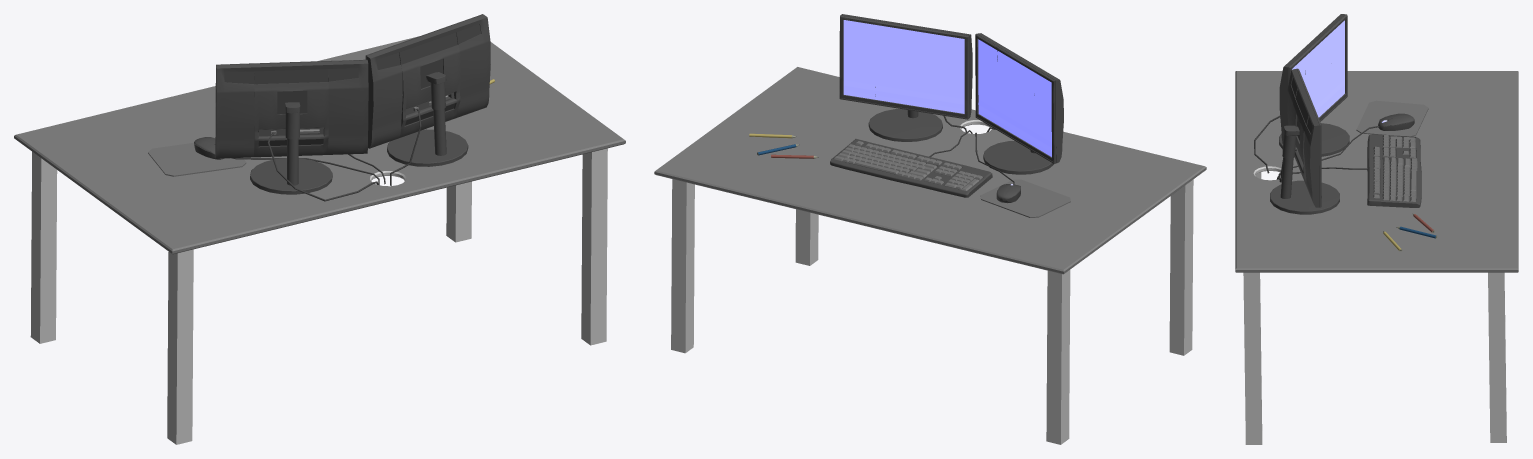
The model's file is office_desk.glb.
The picture shows the model from 3 angles, left to right: view 1: azimuth 30°, elevation 25°; view 2: azimuth 150°, elevation 25°; view 3: azimuth 270°, elevation 25°; orthographic projection. The views are drawn at different scales.
Visible parts, largest first — view 1: Desk2, Monitor_2, Monitor_1, pCube6, pCube5, pCube4, Mouse_pad, pCube3; view 2: Desk2, Monitor_1, Monitor_2, Keyboard115, pCube4, pCube3, pCube5, Mouse_pad, pCube6; view 3: Desk2, Monitor_1, Monitor_2, Keyboard115, pCube6, pCube3, Mouse_pad, Mouse.
Part boxes in pixels (left/top/right/bottom): Desk2: left=14, top=36, right=625, bottom=254; Monitor_2: left=215, top=59, right=368, bottom=194; Monitor_1: left=365, top=14, right=490, bottom=166; pCube6: left=581, top=148, right=607, bottom=345; pCube5: left=167, top=249, right=193, bottom=444; pCube4: left=30, top=152, right=57, bottom=343; Mouse_pad: left=148, top=143, right=246, bottom=176; pCube3: left=446, top=181, right=471, bottom=242; Desk2: left=654, top=67, right=1206, bottom=274; Monitor_1: left=839, top=14, right=972, bottom=141; Monitor_2: left=975, top=33, right=1063, bottom=174; Keyboard115: left=830, top=139, right=992, bottom=197; pCube4: left=1046, top=270, right=1070, bottom=444; pCube3: left=671, top=179, right=694, bottom=353; pCube5: left=1169, top=179, right=1193, bottom=355; Mouse_pad: left=980, top=179, right=1070, bottom=217; pCube6: left=795, top=209, right=818, bottom=265; Desk2: left=1235, top=71, right=1518, bottom=272; Monitor_1: left=1270, top=68, right=1339, bottom=214; Monitor_2: left=1279, top=14, right=1349, bottom=156; Keyboard115: left=1367, top=134, right=1421, bottom=207; pCube6: left=1243, top=272, right=1262, bottom=444; pCube3: left=1488, top=272, right=1506, bottom=442; Mouse_pad: left=1356, top=100, right=1428, bottom=136; Mouse: left=1378, top=113, right=1414, bottom=130.
Size of the model in its own units: 176 by 118 by 107.
